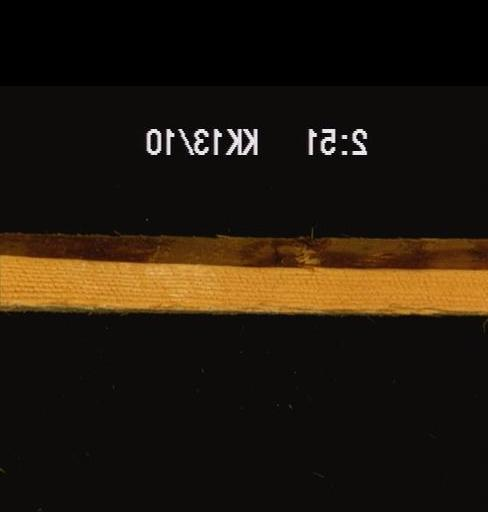wave: (0, 228, 486, 270)
